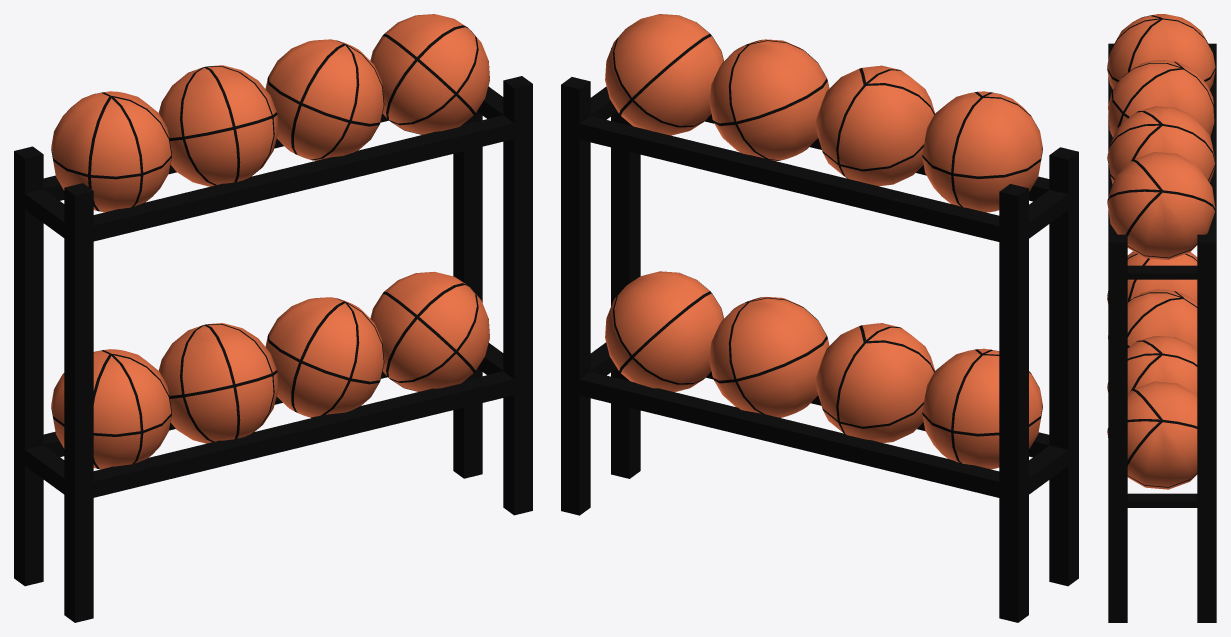
File: Gym_CanastoPelotas.fbx
3 renders of one model, left to right at view 1: azimuth 30°, elevation 25°; view 2: azimuth 150°, elevation 25°; view 3: azimuth 270°, elevation 25°, orthographic. The views are drawn at different scales.
Parts seen in each view (by area): view 1: Gym_CanastoPelotas; view 2: Gym_CanastoPelotas; view 3: Gym_CanastoPelotas.
Part boxes in pixels (x1,y1,x2,y2): Gym_CanastoPelotas: (14,14,532,622); Gym_CanastoPelotas: (561,14,1078,622); Gym_CanastoPelotas: (1107,14,1216,622).
Size of the model in its own units: 773 by 787 by 180.
